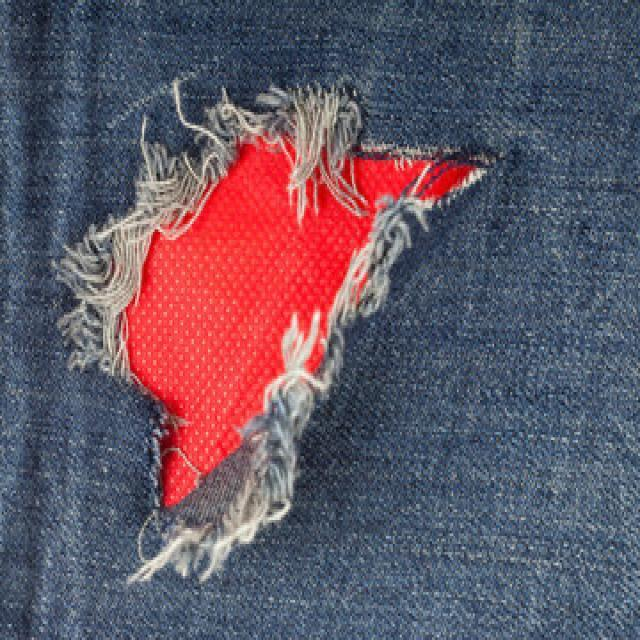Hole: (57, 82, 494, 584)
